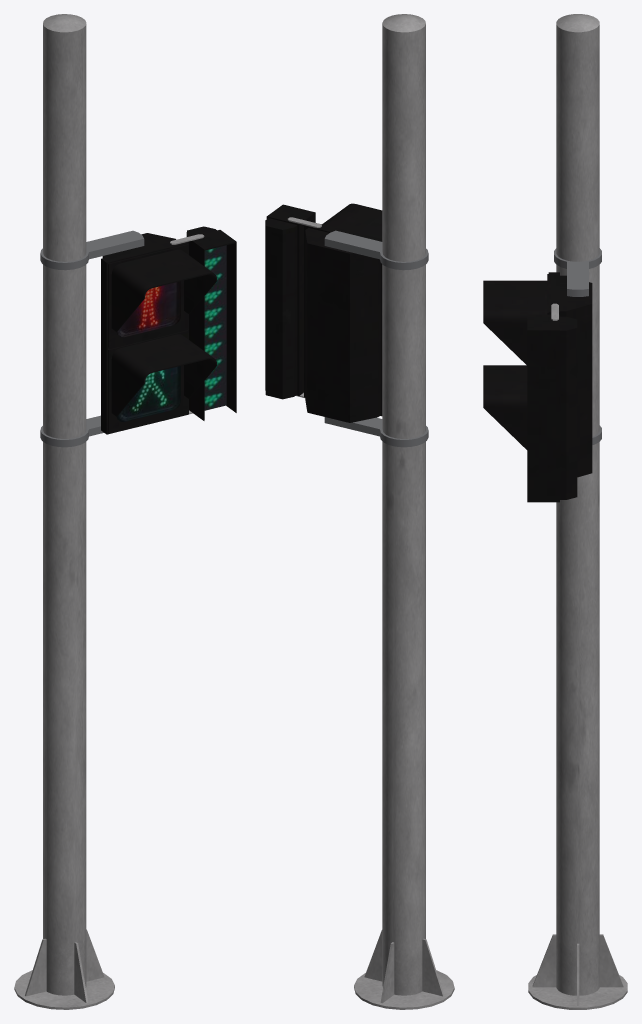
File: pedestrian_signal.glb
3 views of the same model, side by side, from view 1: azimuth 30°, elevation 25°; view 2: azimuth 150°, elevation 25°; view 3: azimuth 270°, elevation 25° (orthographic).
Parts seen in each view (by area): view 1: Cylinder005; view 2: Cylinder005; view 3: Cylinder005.
Part boxes in pixels (left/top/right/bottom): Cylinder005: left=14, top=14, right=236, bottom=1009; Cylinder005: left=265, top=14, right=454, bottom=1009; Cylinder005: left=483, top=14, right=627, bottom=1009.
Size of the model in its own units: 0.49 by 2.4 by 0.3235.
Materials: 1 (1 with a texture image).
